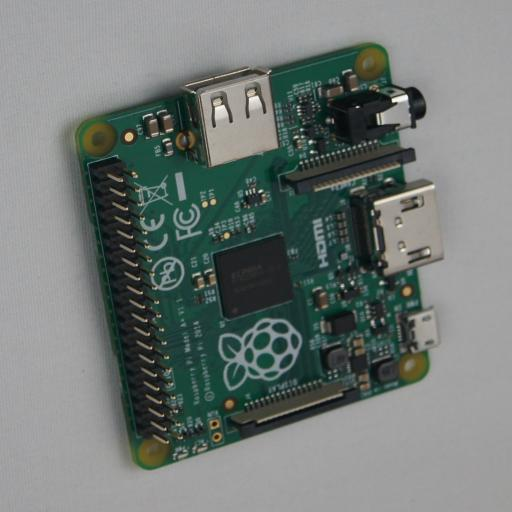Raspberry Pi A-: (69, 43, 443, 470)
